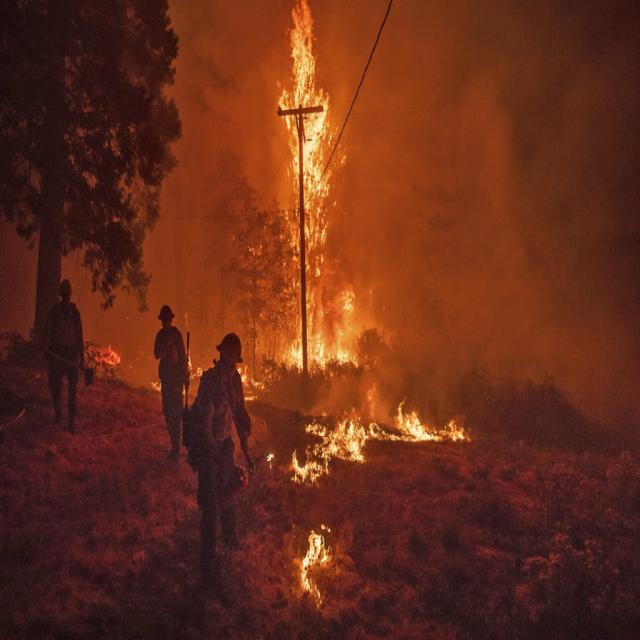Fire: (277, 406, 464, 610), (278, 0, 352, 373)
